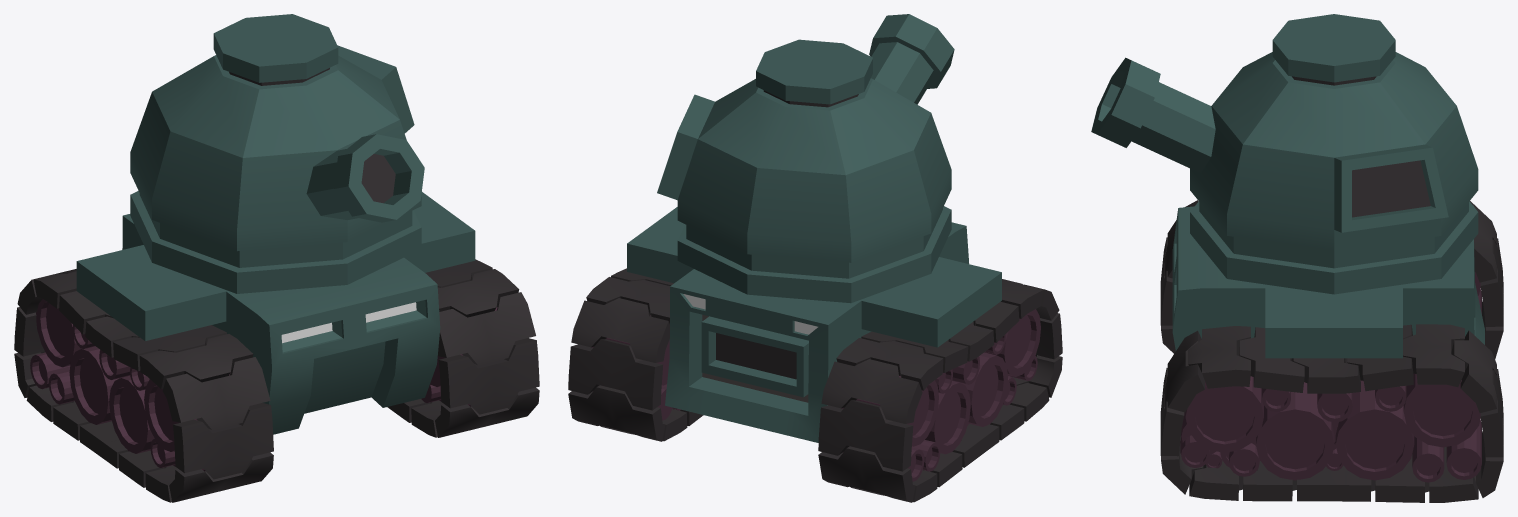
The model's file is TankMaster.fbx.
The picture shows the model from 3 angles, left to right: view 1: azimuth 30°, elevation 25°; view 2: azimuth 150°, elevation 25°; view 3: azimuth 270°, elevation 25°; orthographic projection. The views are drawn at different scales.
Visible parts, largest first — view 1: TankTop, Track, TankBase, Cylinder.017, Barrel; view 2: TankTop, Track, TankBase, Cylinder.017, Barrel; view 3: TankTop, Track, Cylinder.017, TankBase, Barrel, Cylinder.015.
Part boxes in pixels (x1,y1,x2,y2): TankTop: [130, 14, 421, 293]; Track: [14, 259, 539, 502]; TankBase: [76, 192, 475, 434]; Cylinder.017: [30, 299, 497, 471]; Barrel: [306, 134, 424, 222]; TankTop: [657, 39, 951, 303]; Track: [568, 268, 1062, 502]; TankBase: [627, 207, 1001, 442]; Cylinder.017: [591, 309, 1040, 481]; Barrel: [869, 14, 954, 104]; TankTop: [1190, 14, 1478, 294]; Track: [1160, 200, 1503, 502]; Cylinder.017: [1181, 272, 1481, 482]; TankBase: [1172, 205, 1484, 358]; Barrel: [1091, 57, 1215, 173]; Cylinder.015: [1180, 412, 1343, 470].
Bounding box in the file's own units: 372 × 374 × 372.
